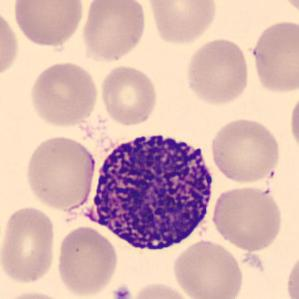Basophil: (80, 123, 220, 258)
Platelets: (111, 284, 134, 299)
RBC: (22, 133, 98, 211), (208, 115, 282, 186), (209, 183, 285, 252), (26, 59, 100, 128), (0, 204, 59, 286), (183, 36, 252, 106), (54, 225, 120, 297), (170, 238, 245, 299), (79, 0, 148, 64), (98, 63, 159, 127), (250, 18, 298, 96), (11, 0, 86, 48), (144, 0, 219, 46), (0, 6, 21, 81), (128, 280, 196, 299), (287, 90, 299, 155), (284, 249, 299, 299), (0, 289, 69, 299), (277, 0, 299, 19)
